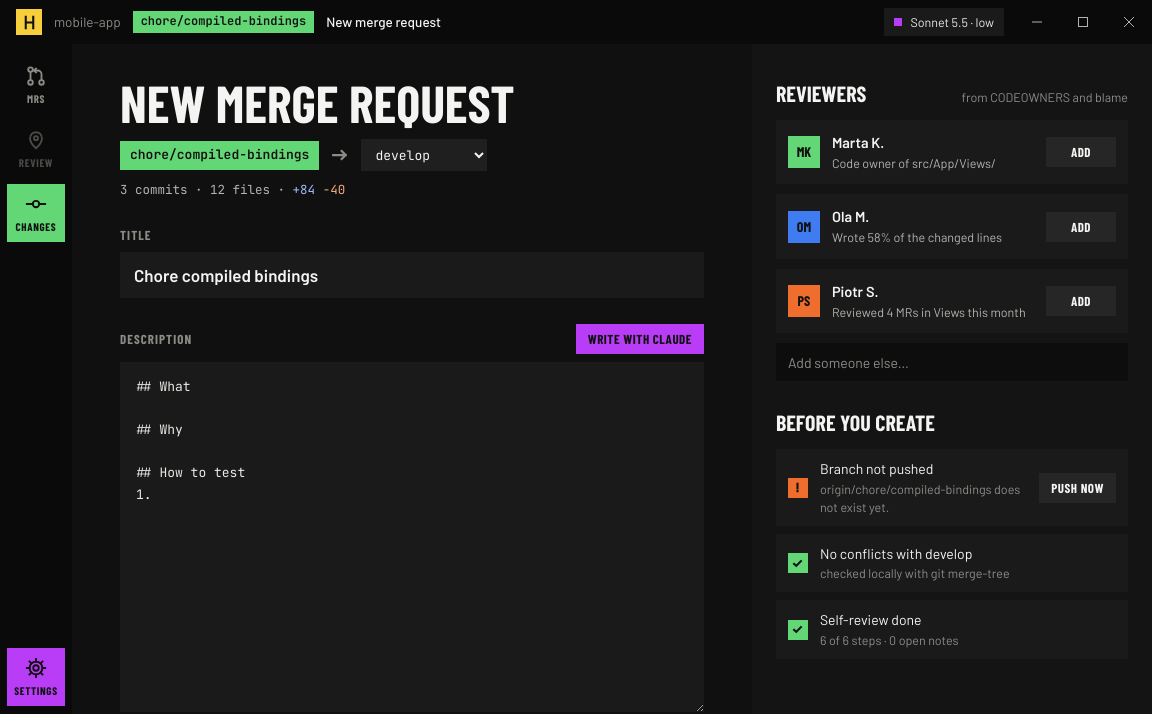
Scenario: S-11 Before you create (F-27.5) › F-27.5 Push now pushes once, reads the checks again and turns the check green
Click the button "Push now" at [1078, 488], box [1039,473,1116,503]
(page scrolled)
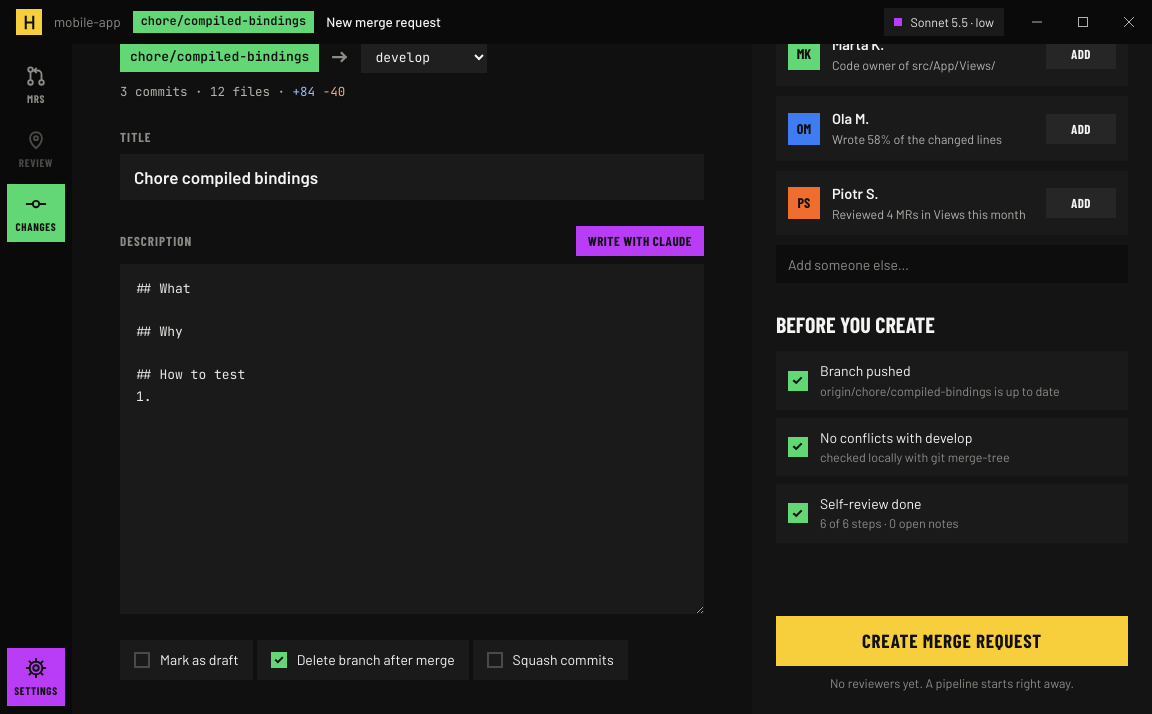
Now the text "Branch pushed" is shown, box [820,362,910,379]
Now the button "Push now" is gone
Now the button "Create merge request" is enabled, box [776,616,1128,666]
